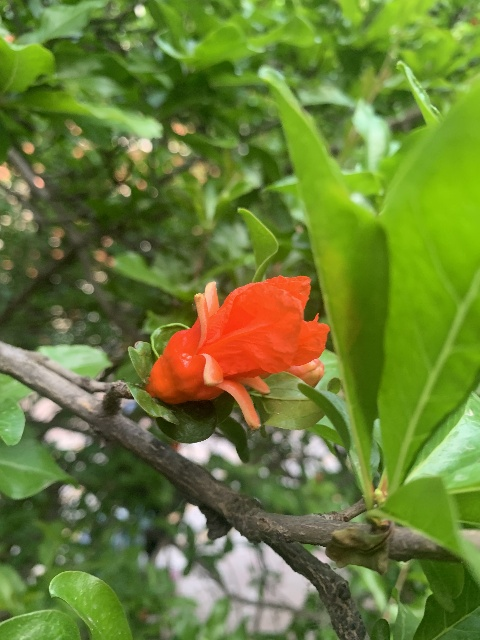bud: (285, 358, 324, 388)
flower: (146, 274, 330, 430)
